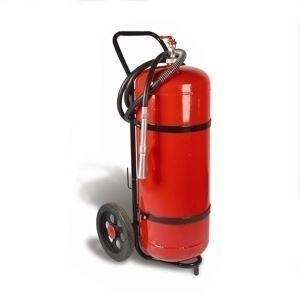fire_extinguisher: (96, 30, 212, 275)
